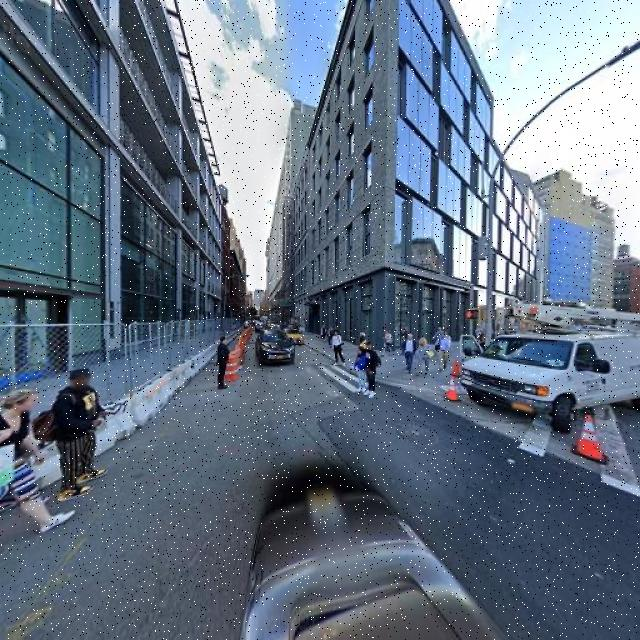Building: (1, 1, 228, 390), (307, 1, 509, 355)
